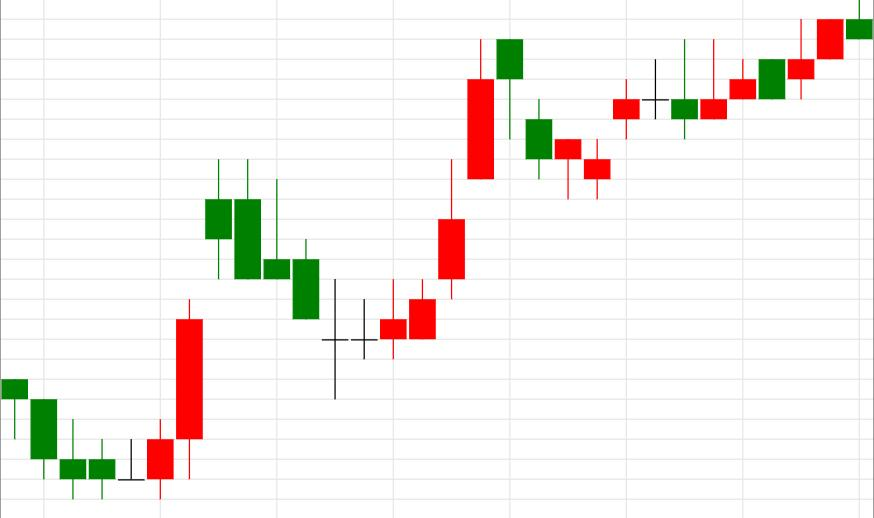hanging_man_fall: (322, 38, 524, 400)
